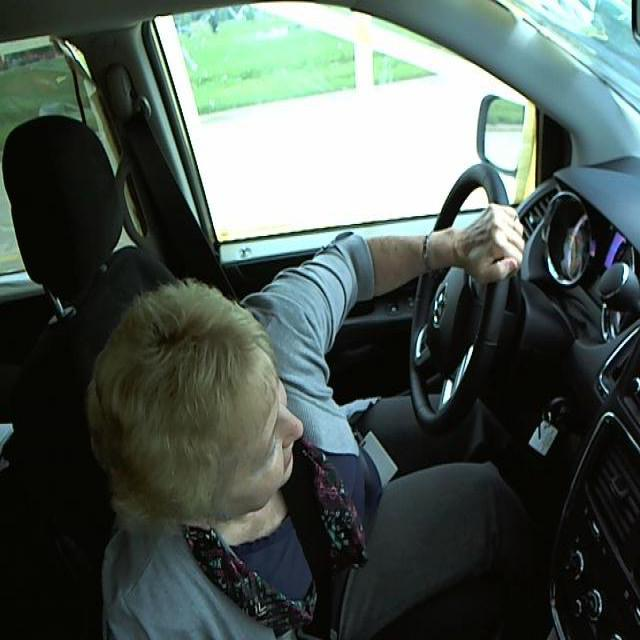seatbelt: (281, 484, 348, 615)
